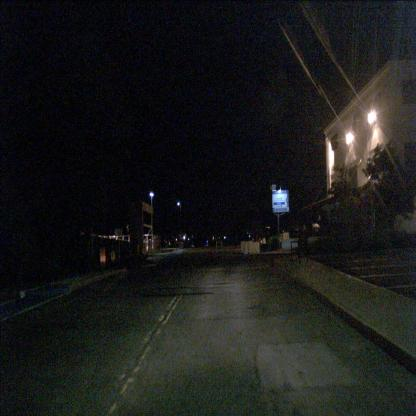movable_object-barrier: (281, 238, 303, 250), (249, 241, 260, 255), (240, 241, 249, 254)
